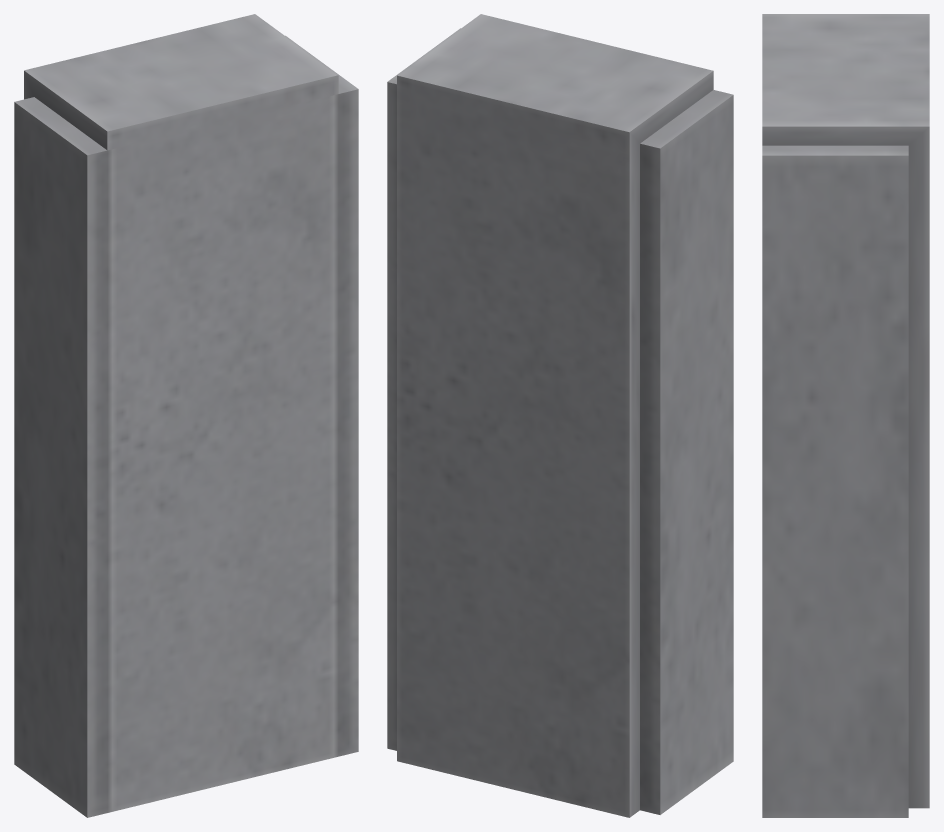
File: set_curb_straight_end.fbx
The picture shows the model from 3 angles, left to right: view 1: azimuth 30°, elevation 25°; view 2: azimuth 150°, elevation 25°; view 3: azimuth 270°, elevation 25°; orthographic projection.
Visible parts, largest first — view 1: set_curb_straight_end; view 2: set_curb_straight_end; view 3: set_curb_straight_end.
Boxes of the visible parts, x1,y1,x2,y2 form: set_curb_straight_end: (14,14,358,817); set_curb_straight_end: (387,14,733,817); set_curb_straight_end: (762,14,929,817).
Size of the model in its own units: 30 by 72 by 16.
